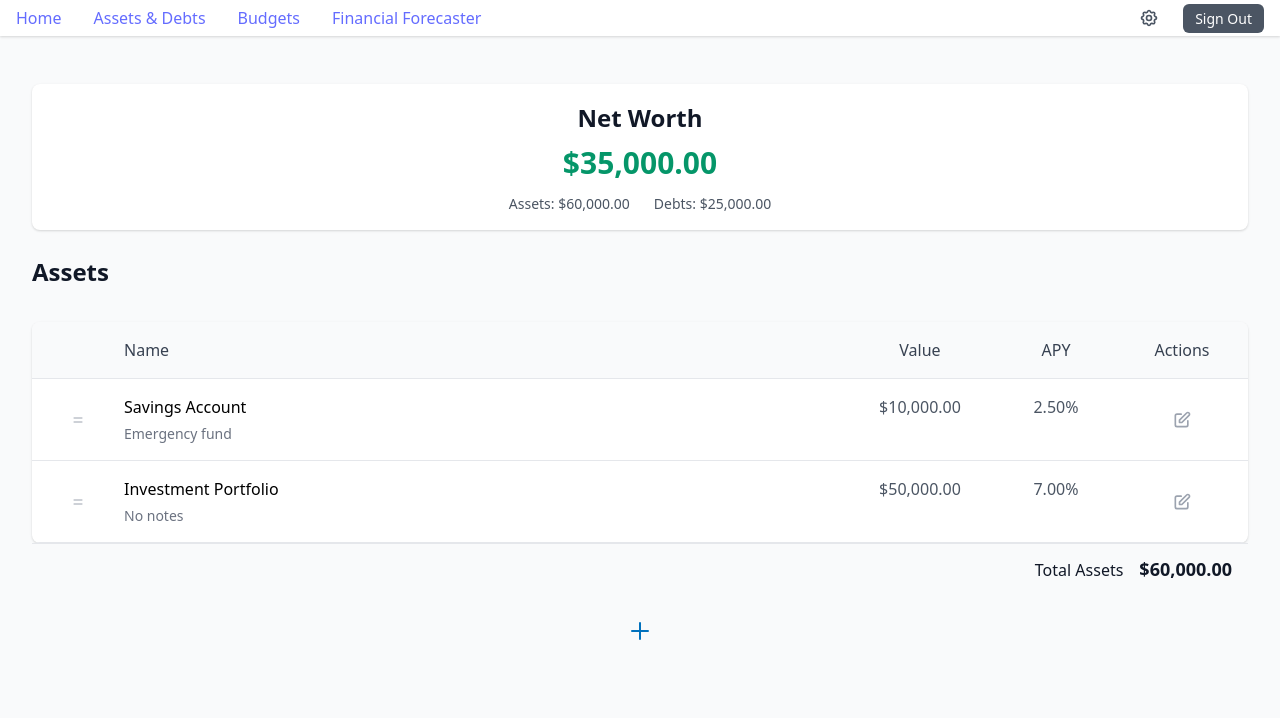
Test: Assets Component › Error Handling › displays error message on update failure
The width and height of the screenshot is (1280, 718).
Click the button with test id "edit-asset-asset1": (1182,420) [1164,395,1200,444]
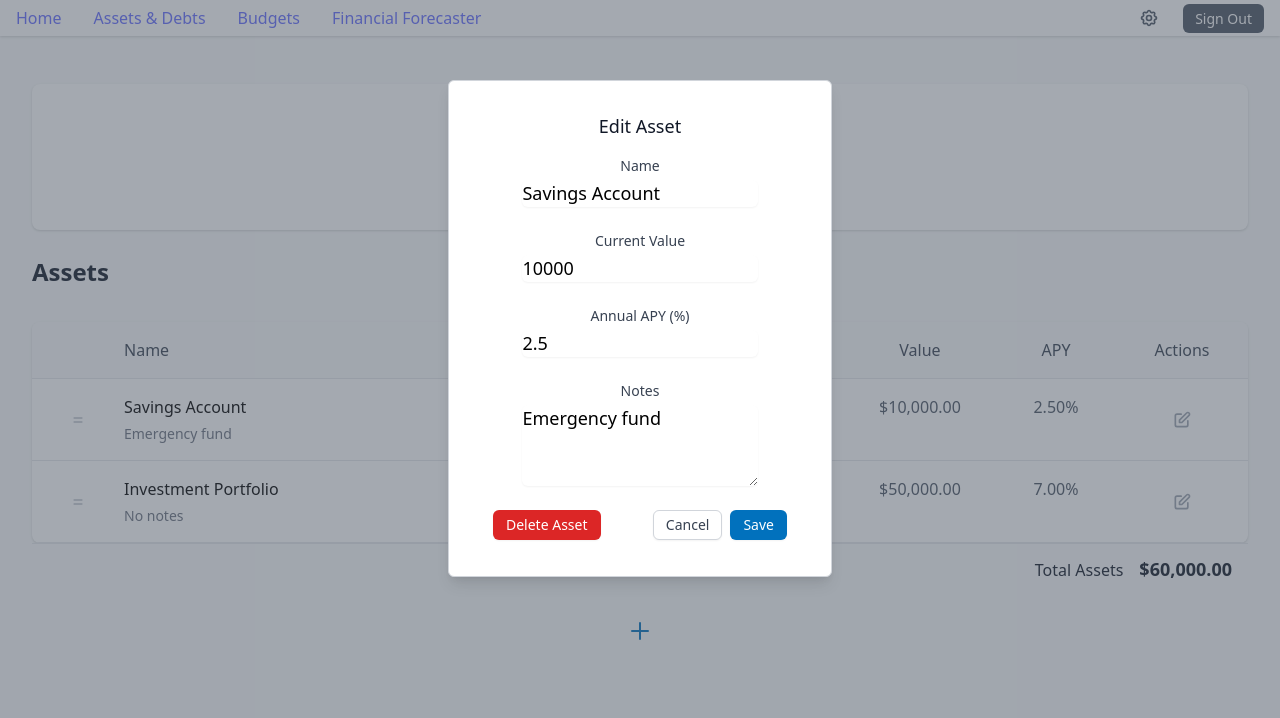
Result: the heading "Edit Asset" is shown at [599,114,681,138]
Submit the form showing "Savings Account", box [469,156,811,540]
// Close the modal to see the error message
Click the button "Cancel": (688,525) [653,510,722,540]
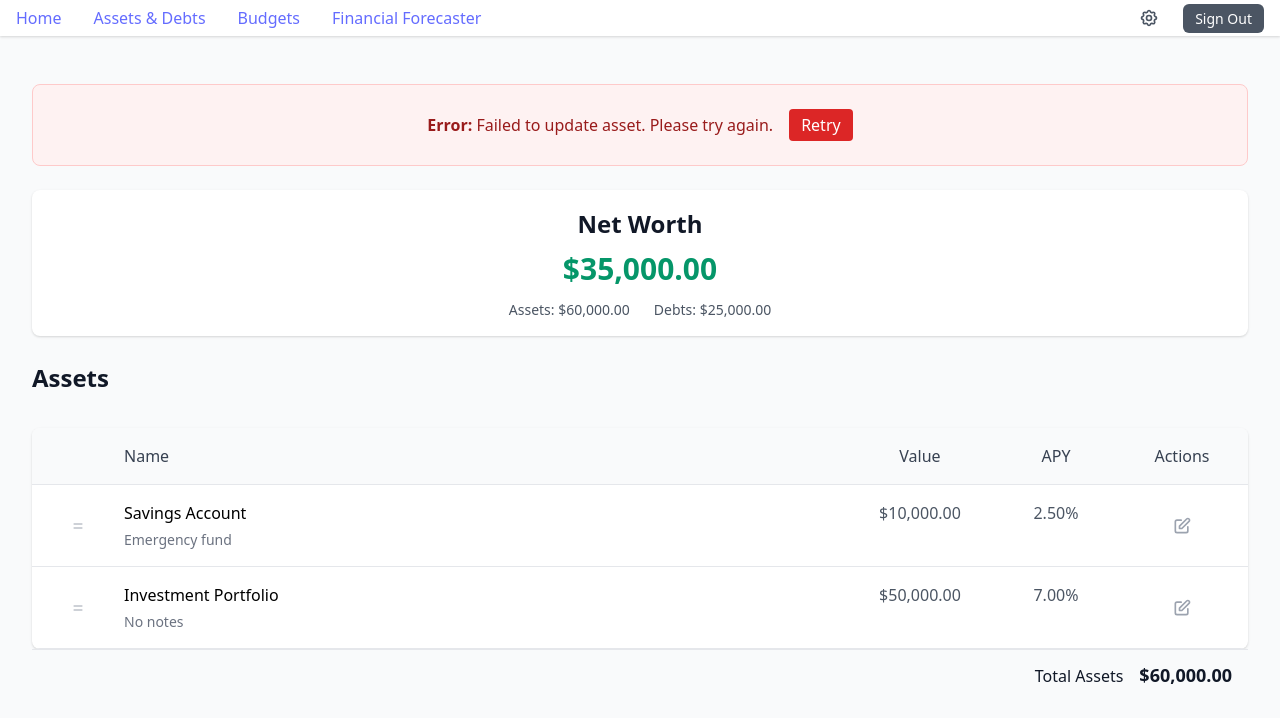
Result: the text "Failed to update asset. Please try again." is shown at [476,114,773,136]
